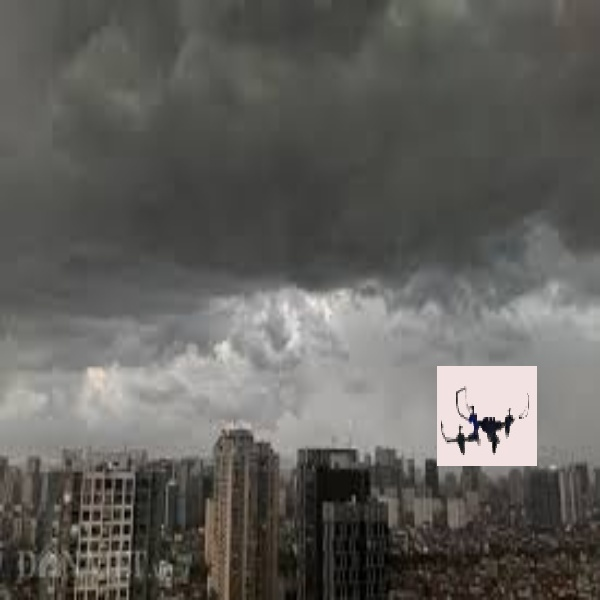drone: (439, 370, 532, 467)
